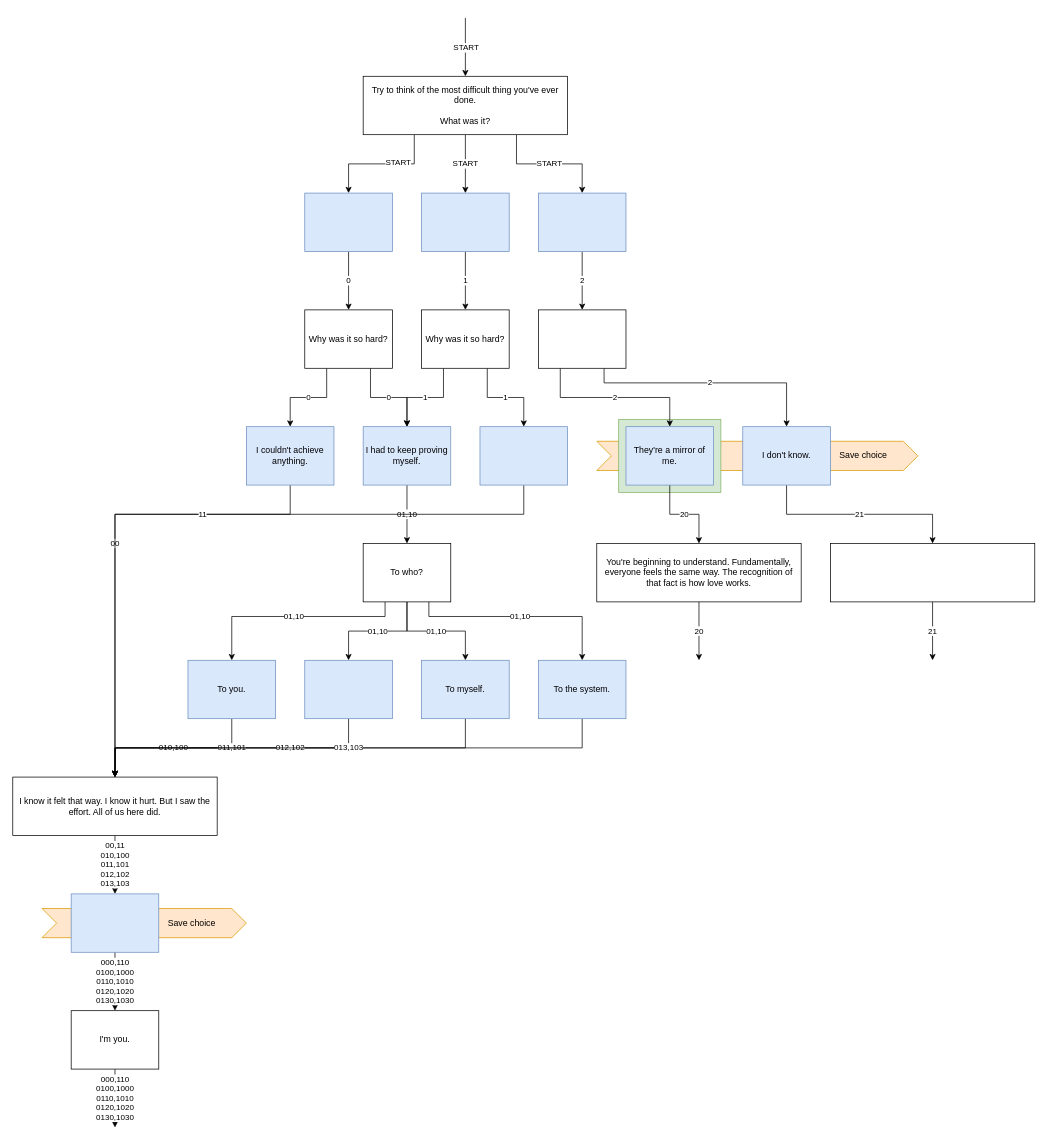
This 1048x1146 diagram has some shape labels left out. The shapes that lost their labels are listed below. From the top down, each one's centre as x and y in pixels, then its label:
(348,221): I existed.
(465,221): I designed something.
(582,221): I helped someone else.
(582,338): Why did you do that? What did it give you?
(523,455): All of the unseen labour.
(932,572): Keep going. And ask yourself this: why does everyone here look the same?
(348,689): To everyone else.
(114,922): Are you a hallucination? A fleeting thought as my brain decomposes?
